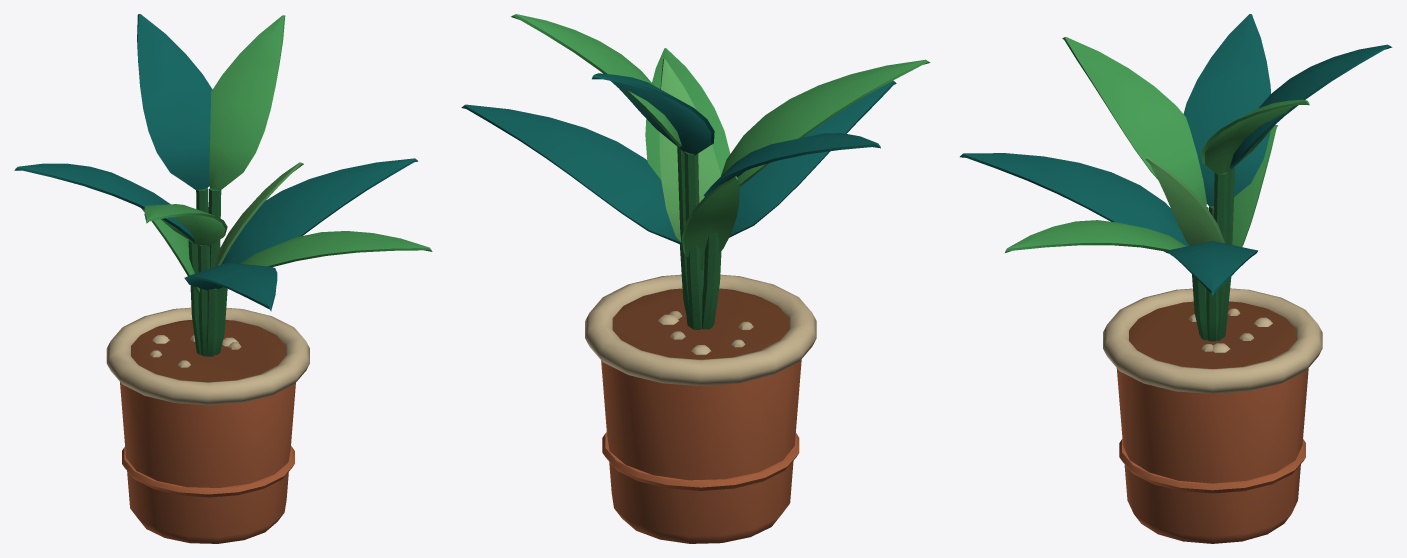
File: SM_Prop_PottedPlant.fbx
3 renders of one model, left to right at view 1: azimuth 30°, elevation 25°; view 2: azimuth 150°, elevation 25°; view 3: azimuth 270°, elevation 25°, orthographic. The views are drawn at different scales.
Visible parts, largest first — view 1: SM_Prop_PottedPlant; view 2: SM_Prop_PottedPlant; view 3: SM_Prop_PottedPlant.
Part boxes in pixels (x1=…): SM_Prop_PottedPlant: x1=14, y1=14, x2=432, y2=543; SM_Prop_PottedPlant: x1=461, y1=14, x2=930, y2=543; SM_Prop_PottedPlant: x1=960, y1=14, x2=1392, y2=543.
Size of the model in its own units: 122 by 132 by 109.
